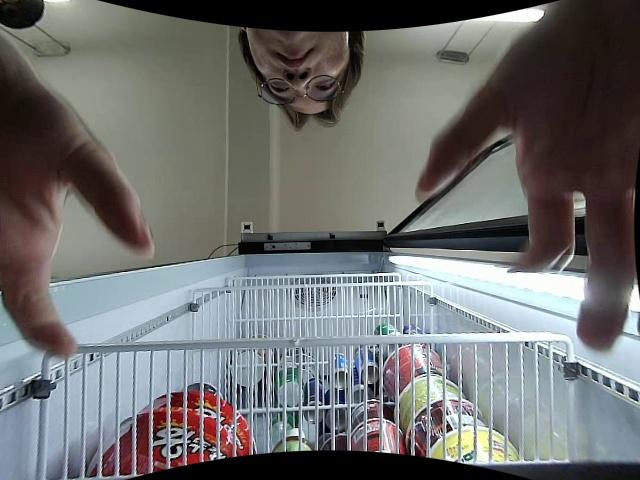00_hand: (415, 0, 640, 353), (0, 26, 154, 359)
